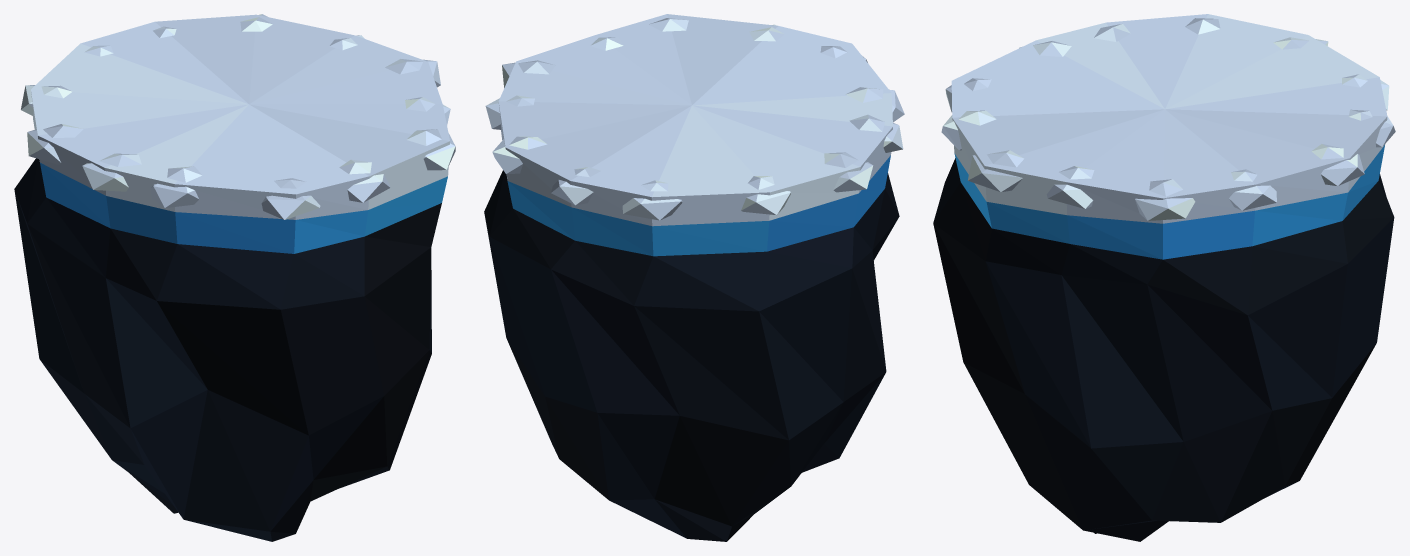
File: ConceptIslet2.fbx
3 renders of one model, left to right at view 1: azimuth 30°, elevation 25°; view 2: azimuth 150°, elevation 25°; view 3: azimuth 270°, elevation 25°, orthographic. The views are drawn at different scales.
Visible parts, largest first — view 1: ConceptIslet2; view 2: ConceptIslet2; view 3: ConceptIslet2.
Part boxes in pixels (<box>): ConceptIslet2: <box>14,14,455,541</box>; ConceptIslet2: <box>484,14,904,541</box>; ConceptIslet2: <box>933,14,1395,541</box>.
Size of the model in its own units: 2.19 by 2.24 by 2.2.
